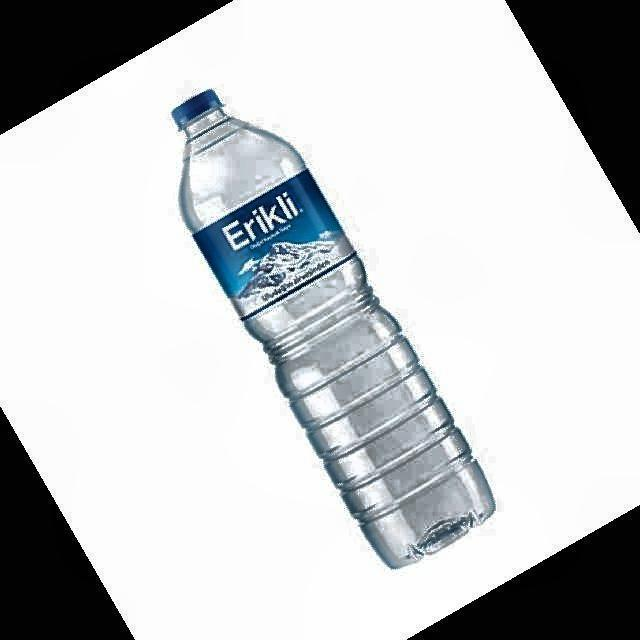plastic: (174, 92, 495, 567)
